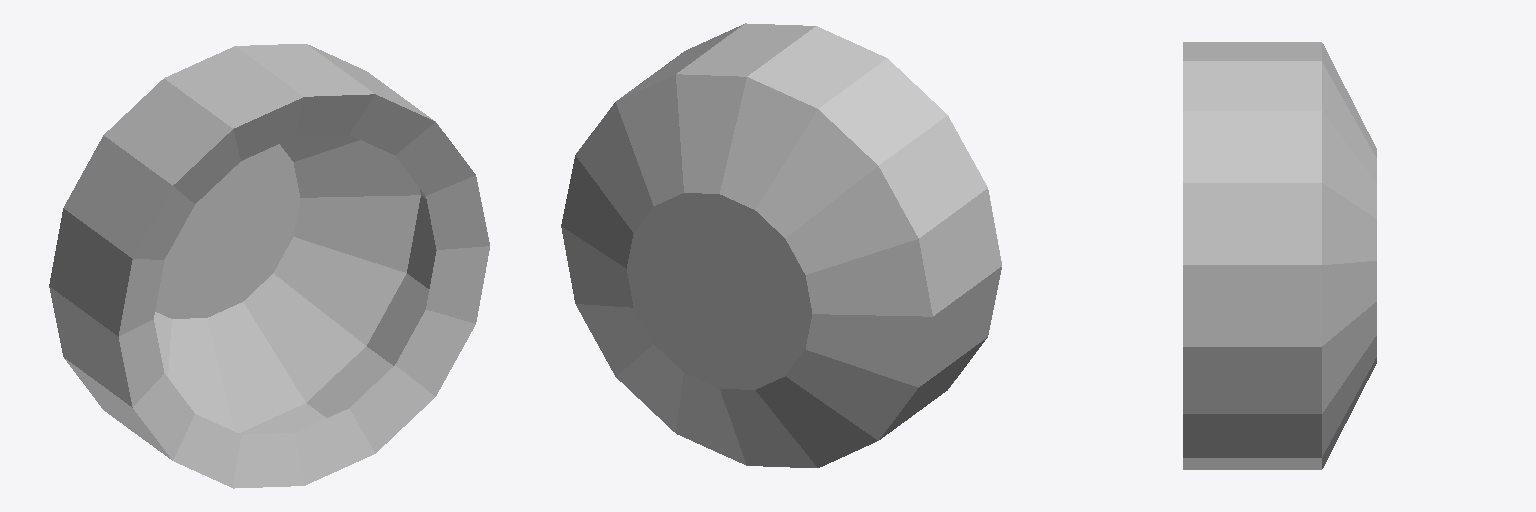
The model's file is housing2.obj.
The picture shows the model from 3 angles: view 1: azimuth 30°, elevation 25°; view 2: azimuth 150°, elevation 25°; view 3: azimuth 270°, elevation 25°; orthographic projection.
Visible parts, largest first — view 1: Cylinder.005_Cylinder.014; view 2: Cylinder.005_Cylinder.014; view 3: Cylinder.005_Cylinder.014.
Part boxes in pixels (bbox=[...]): Cylinder.005_Cylinder.014: bbox=[49, 44, 489, 488]; Cylinder.005_Cylinder.014: bbox=[561, 23, 1001, 467]; Cylinder.005_Cylinder.014: bbox=[1183, 42, 1376, 469].
Bounding box in the file's own units: 4.91 × 4.91 × 2.22.